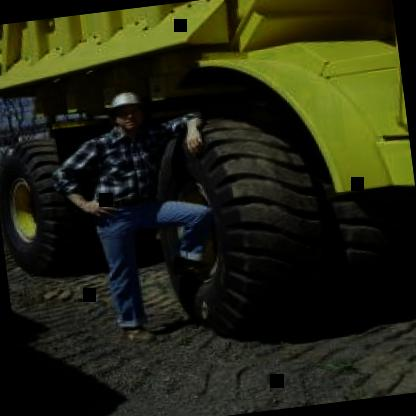helmet: (102, 86, 152, 131)
